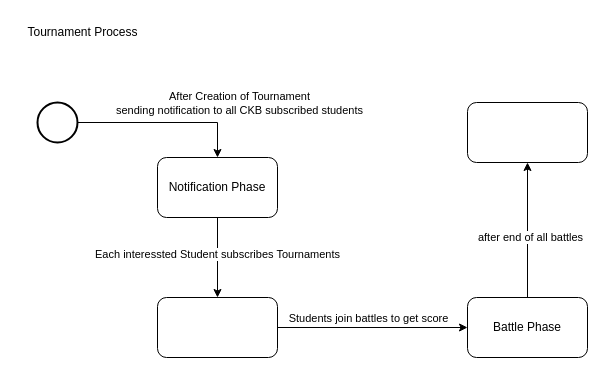
The diagram is 605 pixels wide and 375 high, and some of its shapes have lost their labels. The shapes that lost their labels are listed below. From the top down, each one's centre as x and y in pixels, then its label:
At point 527,132: "Submission Expired and Ranking Phase".
At point 217,327: "Subscribing Phase".
